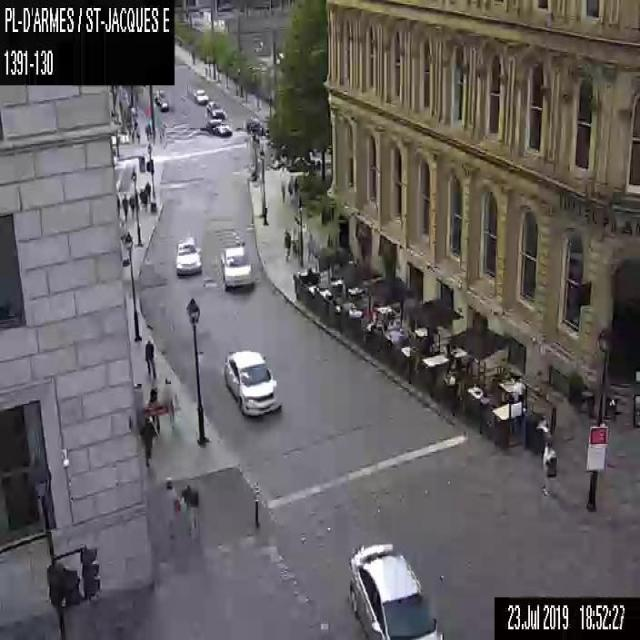pedestrian: (180, 480, 201, 540), (138, 412, 158, 468), (540, 435, 558, 497), (164, 477, 181, 536), (143, 333, 156, 378), (284, 227, 291, 261), (121, 192, 128, 221), (279, 176, 286, 202), (128, 193, 135, 218), (287, 174, 293, 202), (144, 122, 152, 140), (144, 180, 150, 202), (140, 189, 146, 210), (115, 192, 120, 217), (293, 177, 298, 199), (129, 125, 134, 142), (136, 125, 140, 144), (138, 188, 142, 197)
vehicle: (347, 541, 441, 639), (222, 347, 280, 417), (219, 244, 253, 289), (174, 233, 201, 275), (205, 118, 232, 136), (205, 100, 227, 120), (246, 117, 264, 135), (192, 87, 209, 104)
